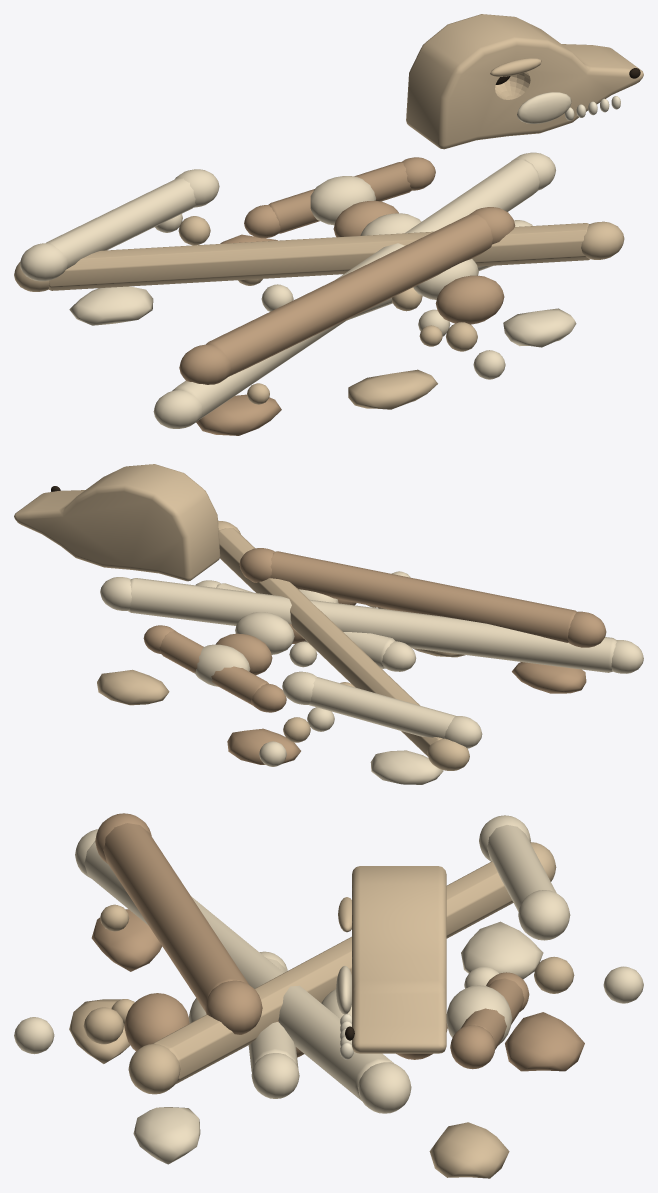
The model's file is monte_ossos.glb.
3 views of the same model, one above another, from view 1: azimuth 30°, elevation 25°; view 2: azimuth 150°, elevation 25°; view 3: azimuth 270°, elevation 25° (orthographic). The views are drawn at different scales.
Parts seen in each view (by area): view 1: Skull - sculpted profile, Cross bone B shaft, Front femur shaft, Cross bone A shaft, Rear fragment shaft, Vertebra 00, Short fragment shaft, Bone debris 02, Bone debris 01, Bone debris 00, Bone debris 04, Vertebra 05 (+18 smaller); view 2: Skull - sculpted profile, Cross bone A shaft, Front femur shaft, Cross bone B shaft, Rear fragment shaft, Short fragment shaft, Bone debris 05, Bone debris 01, Bone debris 00, Vertebra 03, Bone debris 03, Vertebra 05 (+16 smaller); view 3: Skull - sculpted profile, Front femur shaft, Cross bone B shaft, Cross bone A shaft, Bone debris 03, Bone debris 05, Rear fragment shaft, Bone debris 01, Bone debris 04, Vertebra 00, Bone debris 00, Front femur head B (+17 smaller).
Part boxes in pixels (bbox=[...]): Skull - sculpted profile: bbox=[406, 14, 643, 149]; Cross bone B shaft: bbox=[48, 223, 589, 290]; Front femur shaft: bbox=[206, 214, 492, 376]; Cross bone A shaft: bbox=[172, 159, 539, 419]; Rear fragment shaft: bbox=[46, 178, 195, 269]; Vertebra 00: bbox=[435, 275, 504, 324]; Short fragment shaft: bbox=[268, 162, 411, 233]; Bone debris 02: bbox=[348, 369, 437, 409]; Bone debris 01: bbox=[69, 286, 153, 325]; Bone debris 00: bbox=[196, 394, 281, 435]; Bone debris 04: bbox=[503, 308, 576, 347]; Vertebra 05: bbox=[310, 176, 375, 225]; Skull - sculpted profile: bbox=[14, 464, 220, 581]; Cross bone A shaft: bbox=[127, 578, 616, 672]; Front femur shaft: bbox=[270, 551, 576, 642]; Cross bone B shaft: bbox=[218, 528, 442, 756]; Rear fragment shaft: bbox=[308, 677, 455, 738]; Short fragment shaft: bbox=[159, 631, 268, 705]; Bone debris 05: bbox=[97, 669, 169, 705]; Bone debris 01: bbox=[370, 750, 443, 784]; Bone debris 00: bbox=[512, 662, 586, 693]; Vertebra 03: bbox=[235, 612, 294, 654]; Bone debris 03: bbox=[227, 728, 300, 764]; Vertebra 05: bbox=[194, 644, 250, 686]; Skull - sculpted profile: bbox=[352, 866, 446, 1053]; Front femur shaft: bbox=[103, 823, 248, 1011]; Cross bone B shaft: bbox=[153, 861, 513, 1084]; Cross bone A shaft: bbox=[84, 841, 393, 1100]; Bone debris 03: bbox=[505, 1012, 584, 1071]; Bone debris 05: bbox=[429, 1122, 509, 1178]; Rear fragment shaft: bbox=[487, 825, 556, 911]; Bone debris 01: bbox=[461, 921, 543, 979]; Bone debris 04: bbox=[133, 1107, 200, 1164]; Vertebra 00: bbox=[124, 993, 189, 1051]; Bone debris 00: bbox=[91, 909, 162, 971]; Front femur head B: bbox=[205, 980, 262, 1034].
Bounding box in the file's own units: 0.8004 × 0.3102 × 0.5878.
